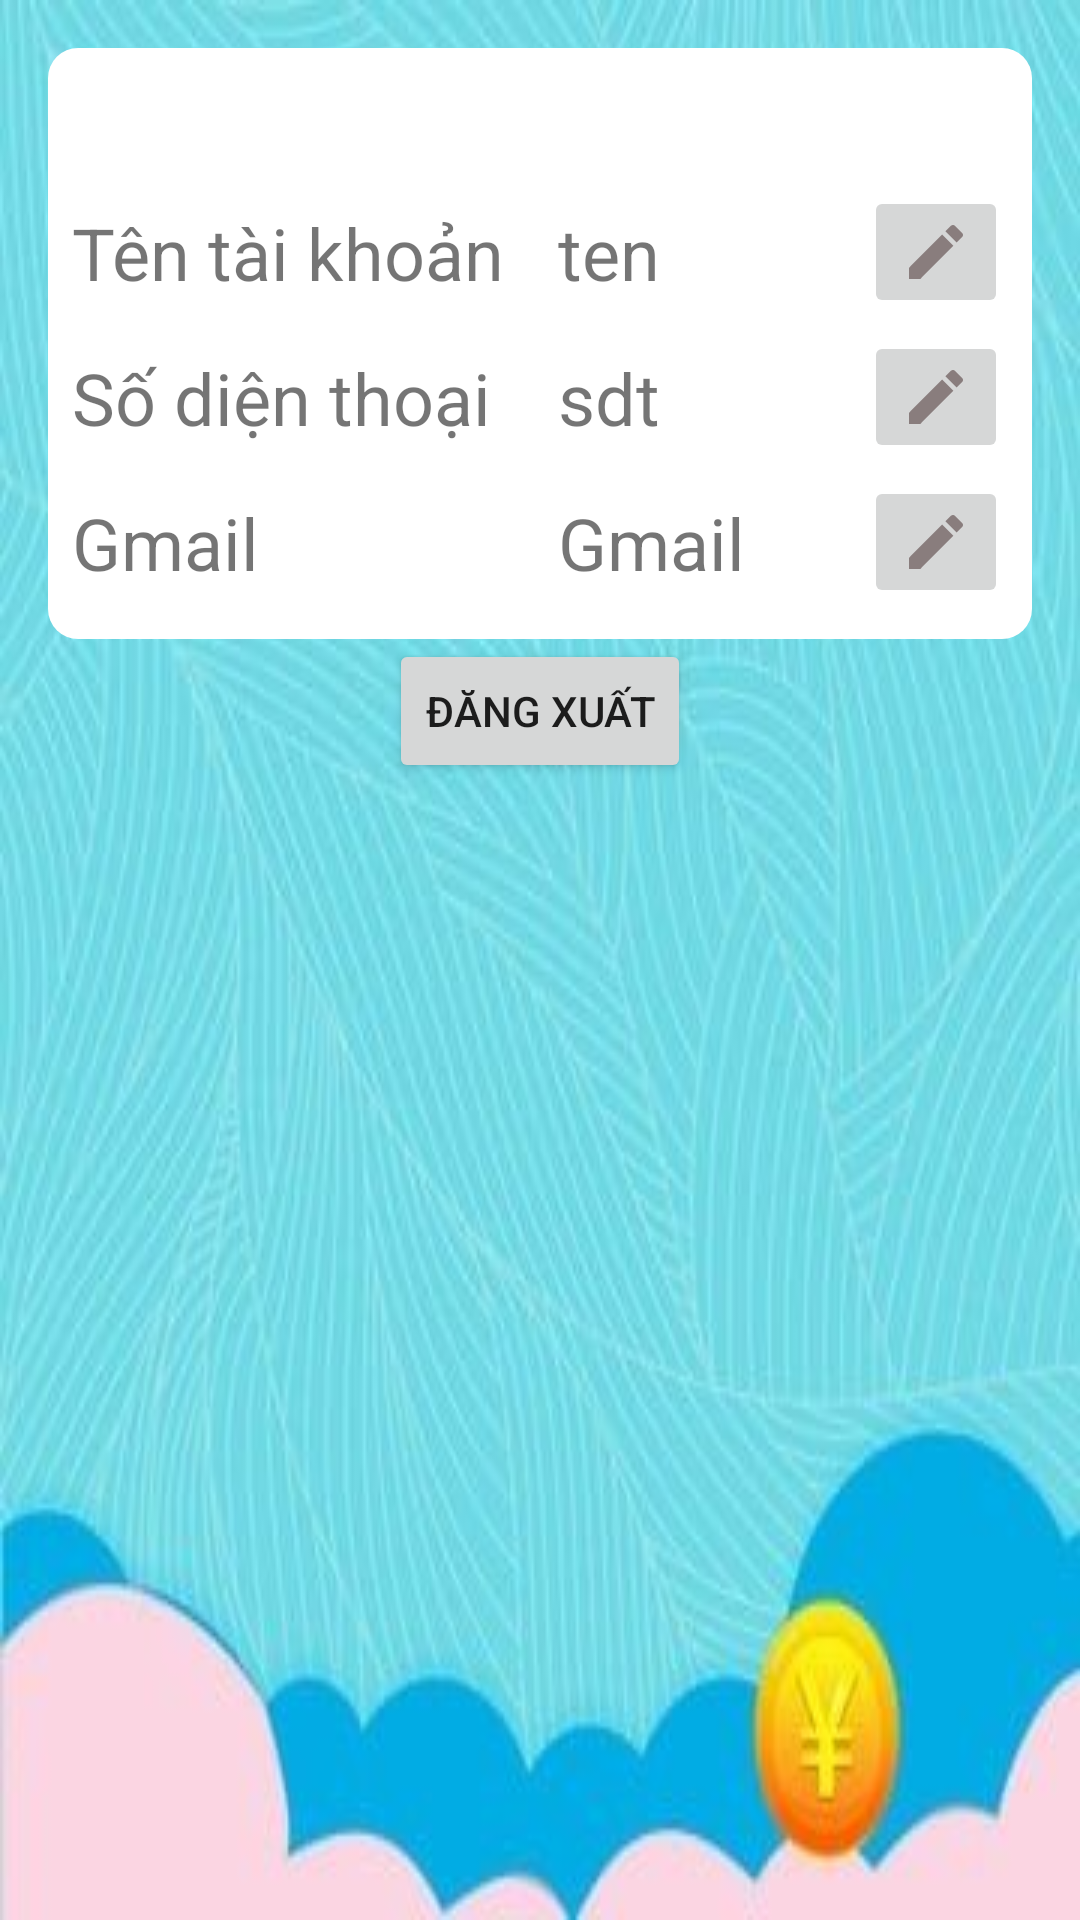

Where icons sit on this 1080w x 1920h app screen, as (x1, y1, x2, y2):
edit: (876, 204, 996, 300), (876, 349, 996, 445), (876, 494, 996, 590)
